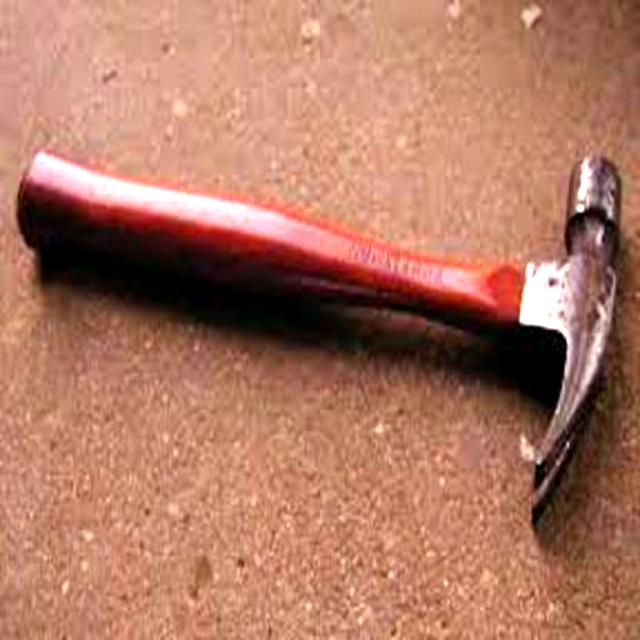hammer: (10, 128, 636, 536)
